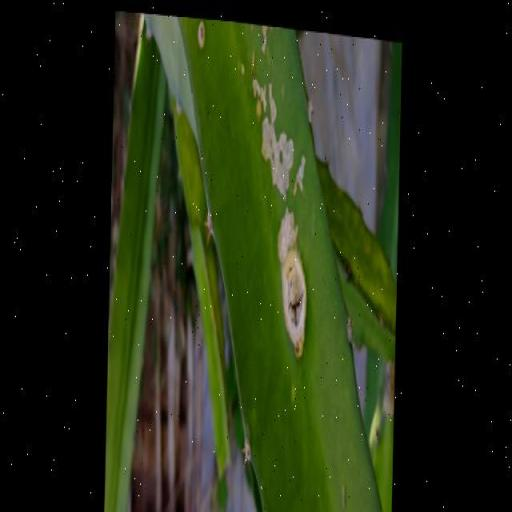stemcanker: (120, 94, 144, 124), (370, 424, 390, 454)
